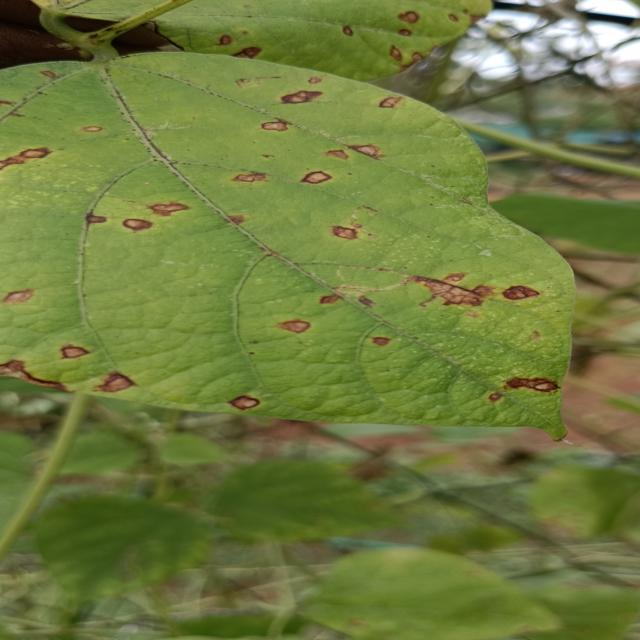Dolicos bean_cercospora leaf spot: (0, 47, 593, 442)
